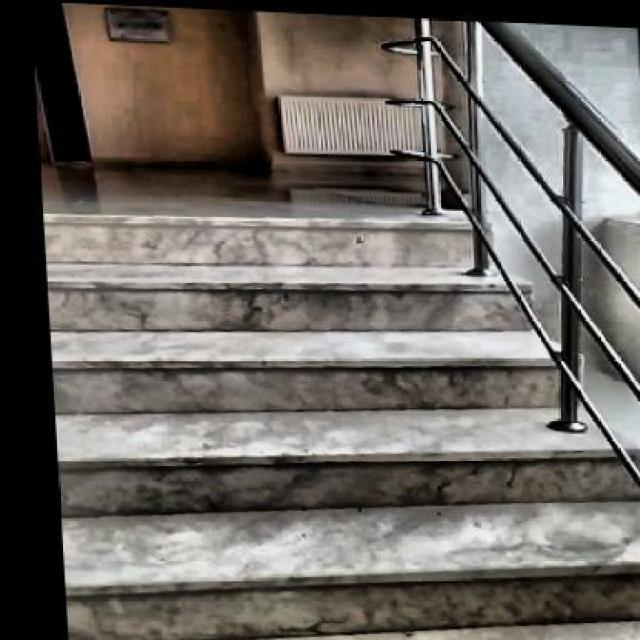stair: (36, 200, 638, 638)
